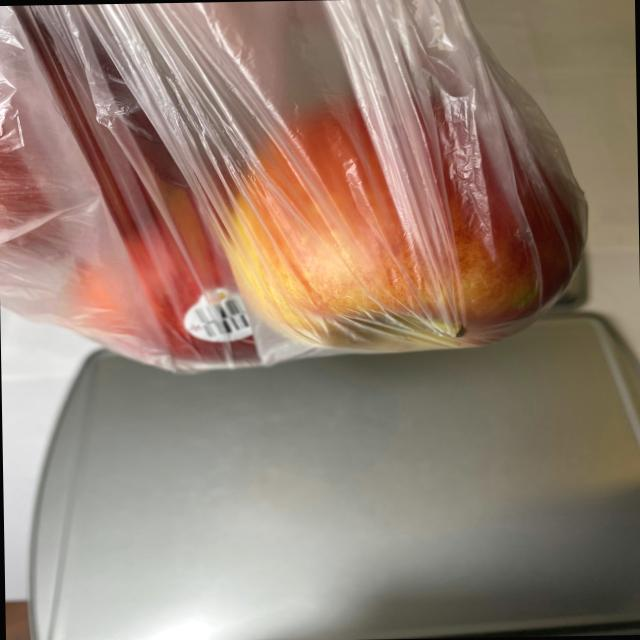apple: (0, 43, 591, 374)
